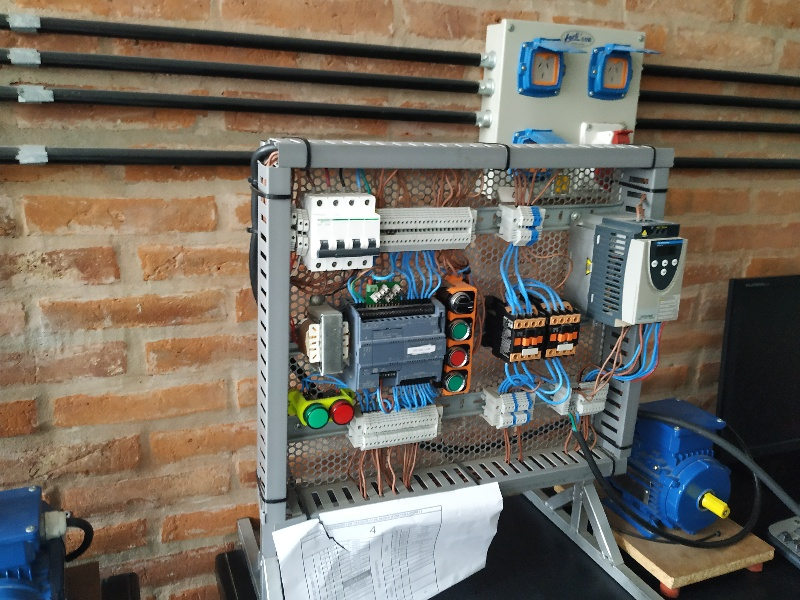Tablero 4: (284, 150, 685, 494)
